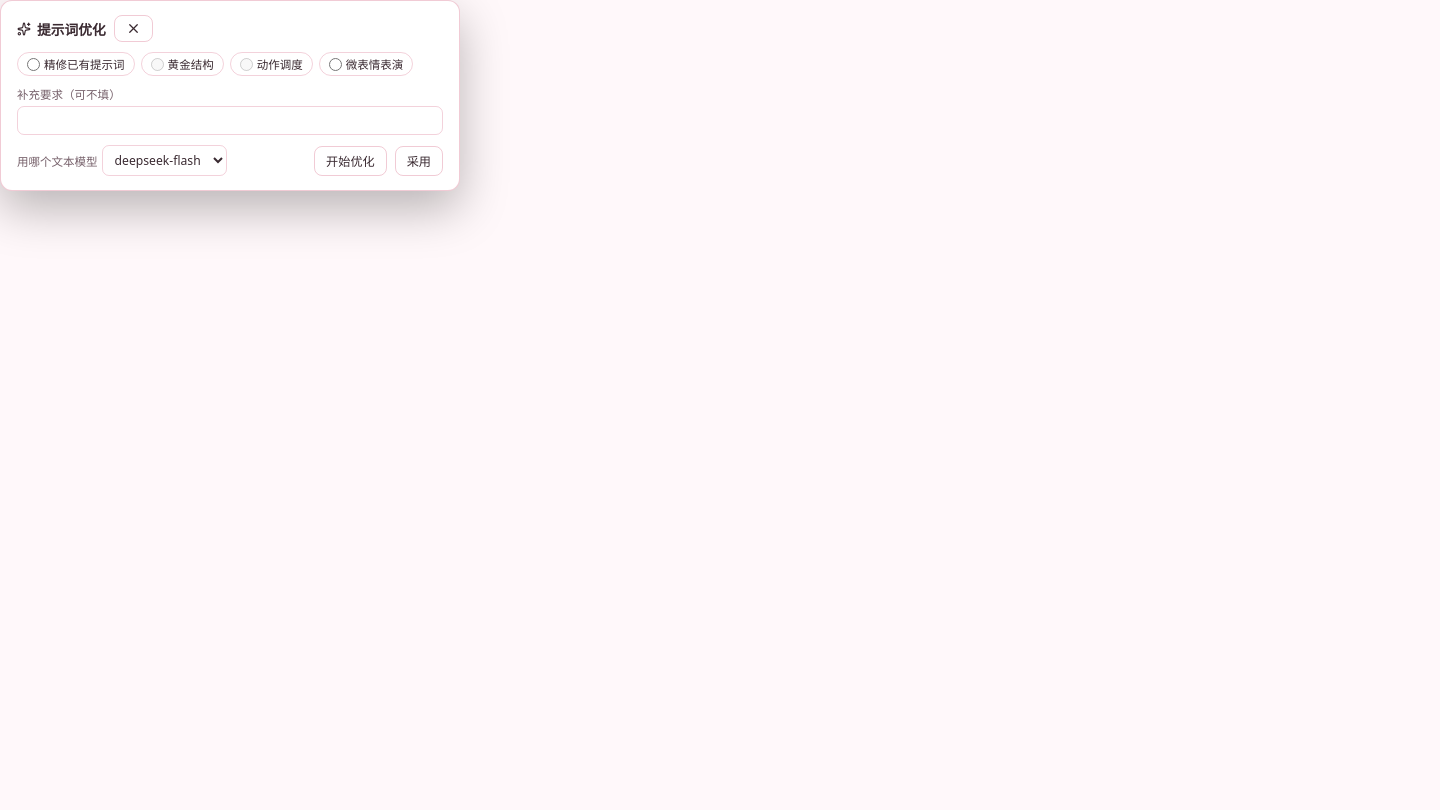
Test: the eight-part structure mode in the prompt optimizer › offers the fight layout to clips only and the performance layout to pictures too
Expected: the radio button labelled "动作调度" is disabled, x1=240 y1=58 x2=253 y2=70
Click the radio button labelled "微表情表演" at [335, 64], box x1=329 y1=58 x2=342 y2=70
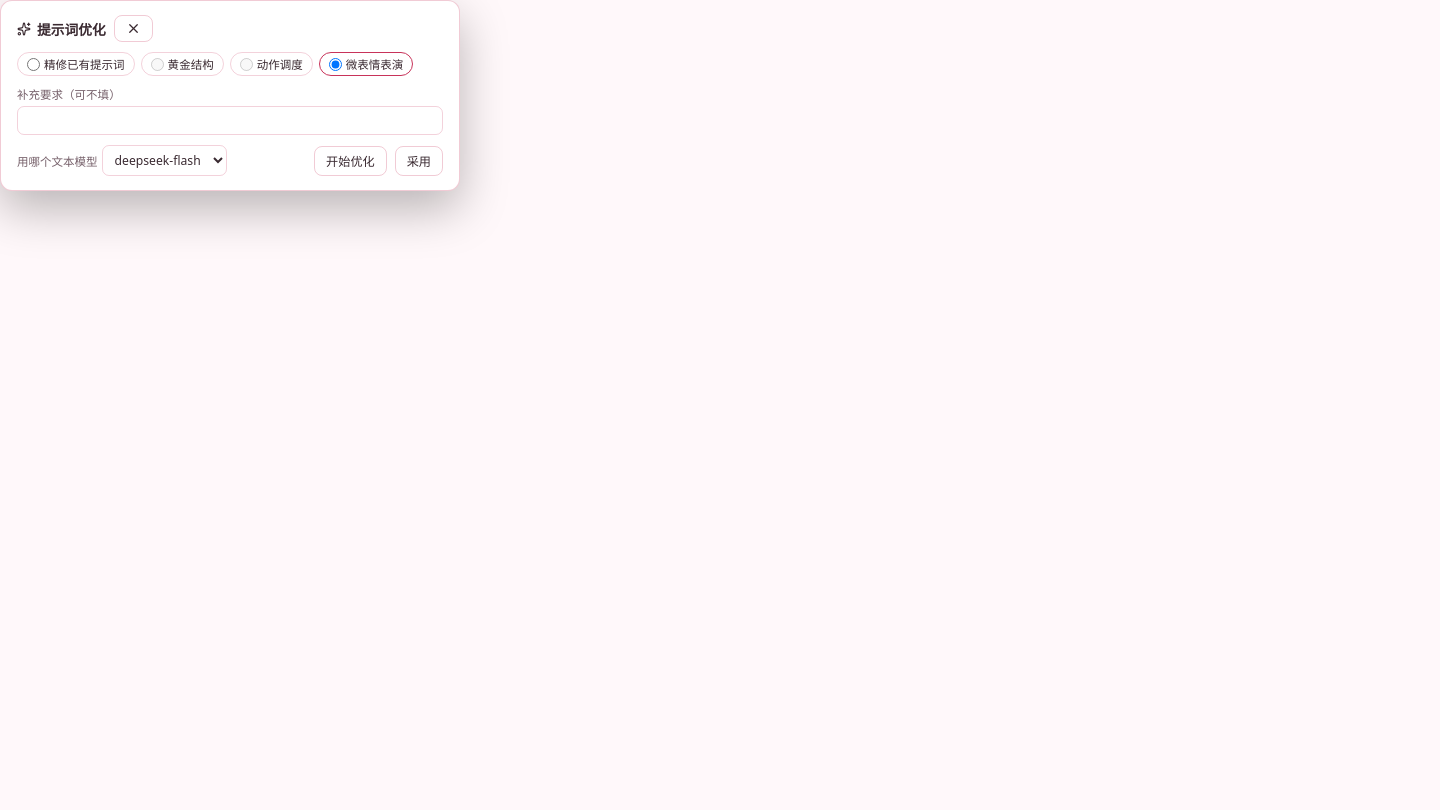
Click the button "开始优化" at [350, 160], box x1=314 y1=146 x2=387 y2=176
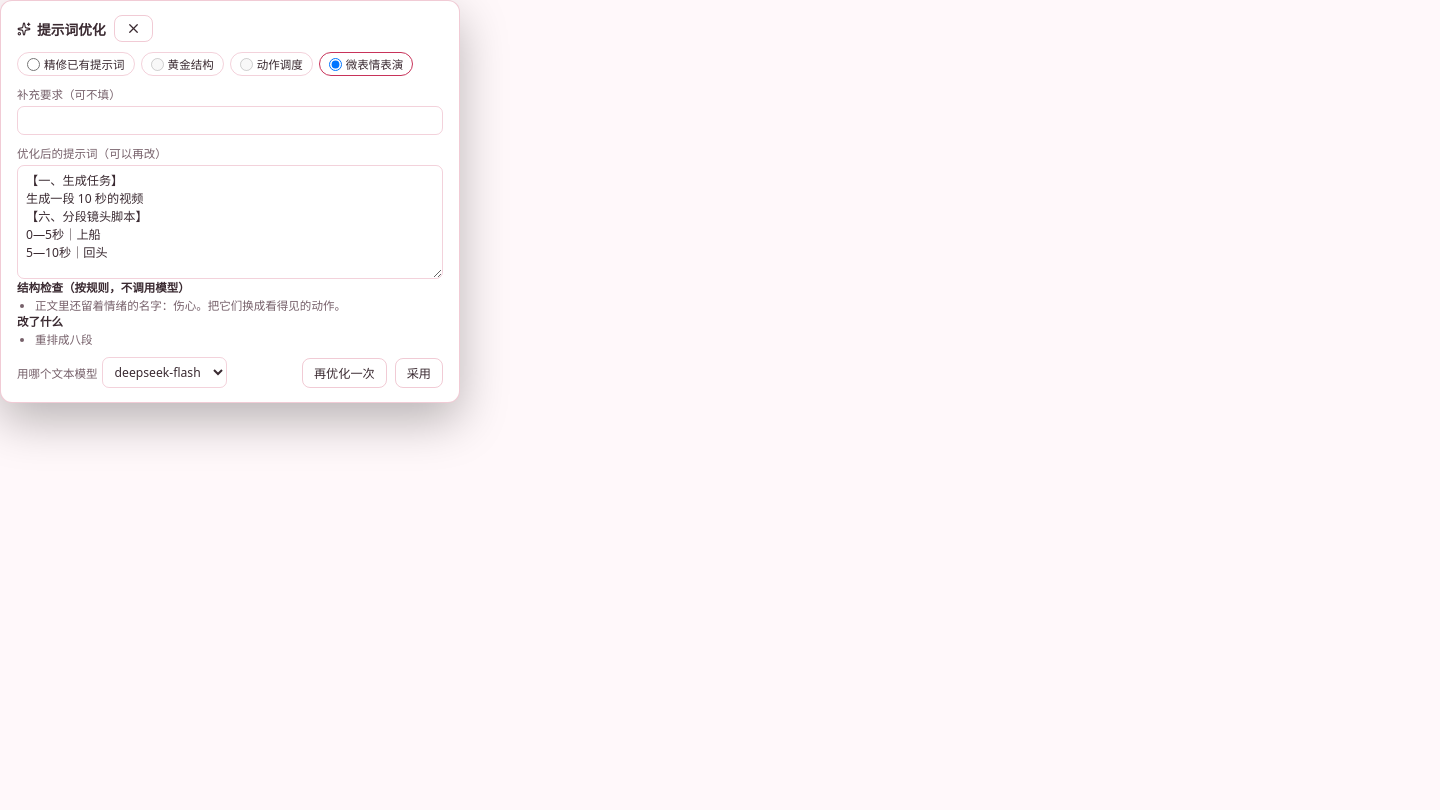
Expected: the list item "正文里还留着情绪的名字：伤心。把它们换成看得见的动作。" is shown, x1=35 y1=298 x2=346 y2=313
